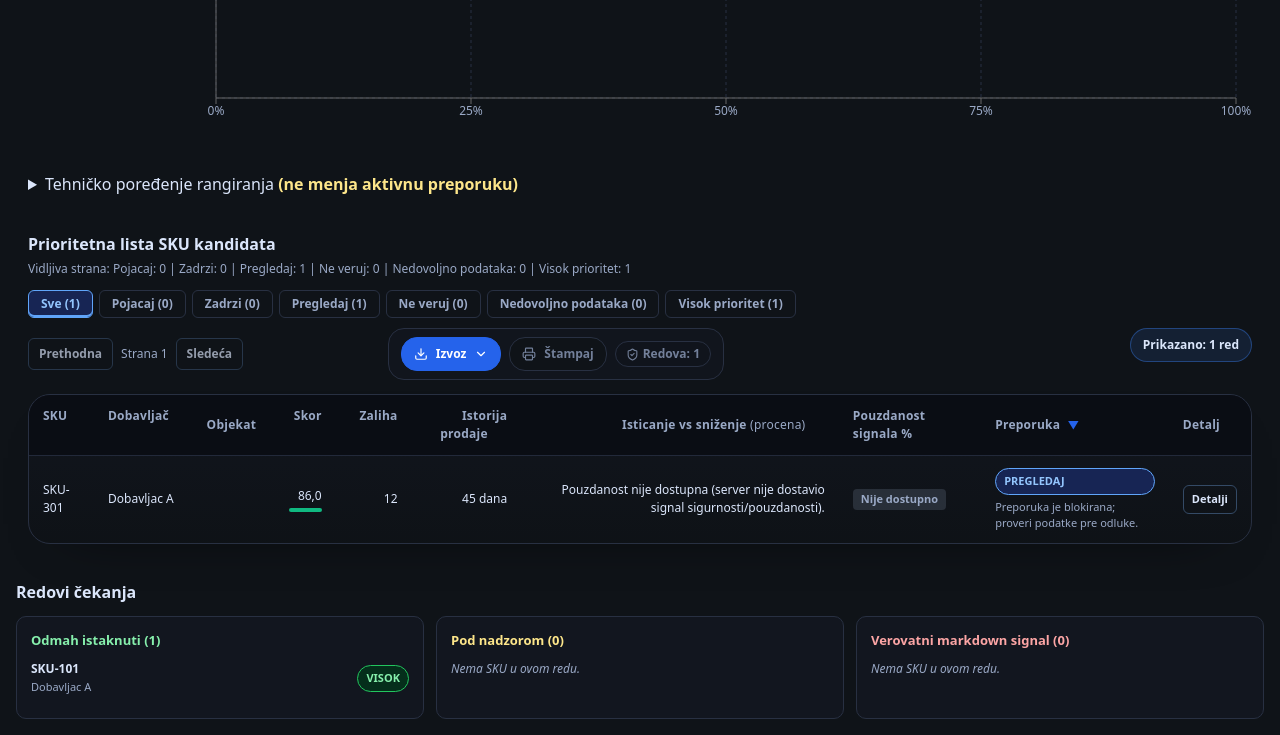
it: PreNivelacijaPriorityPage › keeps markdown copy scenario-oriented and blocks margin signal without cost
This screenshot has width=1280, height=735.
(page scrolled)
Expected: the heading "Verovatni markdown signal (0)" is shown, [871,631,1069,649]
Step 1. Click the button "Detalji" → (1210, 499), box [1183,485,1237,514]
(page scrolled)
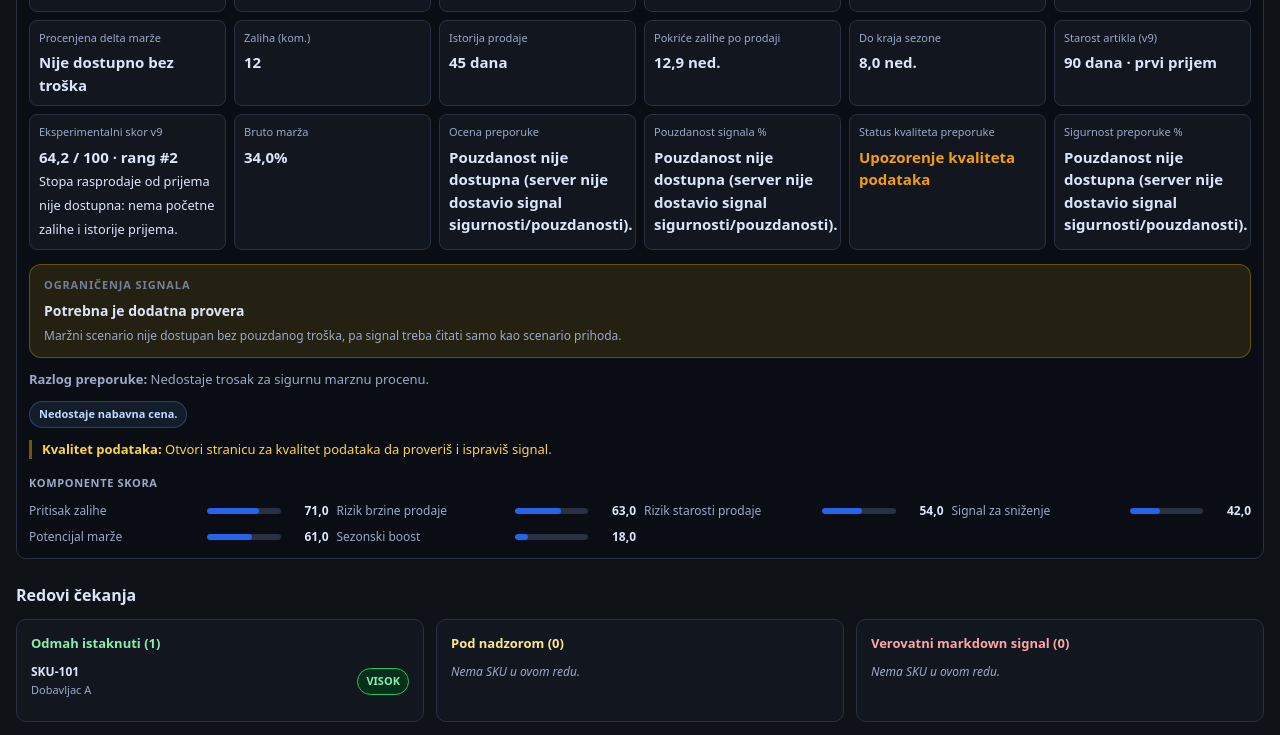
Expected: the text "Procenjena delta marže" is shown, [39,30,161,45]
Expected: the text "Nije dostupno bez troška" is shown, [39,52,174,95]
Expected: the text "Maržni scenario nije dostupan bez pouzdanog troška" is shown, [44,327,622,344]
